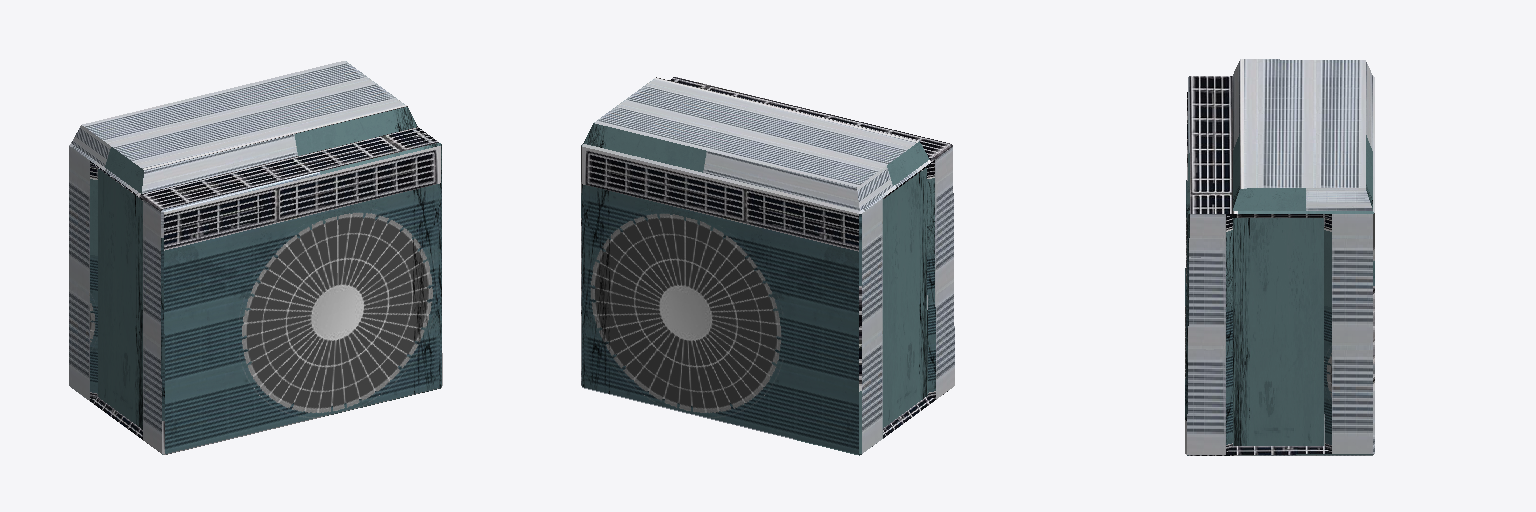
The picture shows the model from 3 angles: view 1: azimuth 30°, elevation 25°; view 2: azimuth 150°, elevation 25°; view 3: azimuth 270°, elevation 25°; orthographic projection.
Parts seen in each view (by area): view 1: ventilator_2; view 2: ventilator_2; view 3: ventilator_2.
Part boxes in pixels (x1,y1,x2,y2): ventilator_2: (69,61,442,454); ventilator_2: (581,77,954,455); ventilator_2: (1185,59,1374,455).
Bounding box in the file's own units: 0.3048 × 0.2741 × 0.1789.
1 materials, 1 textured.